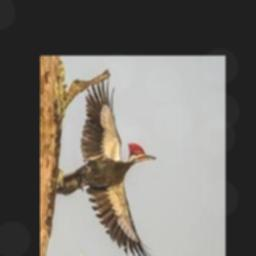Woodpecker: (54, 78, 159, 256)
